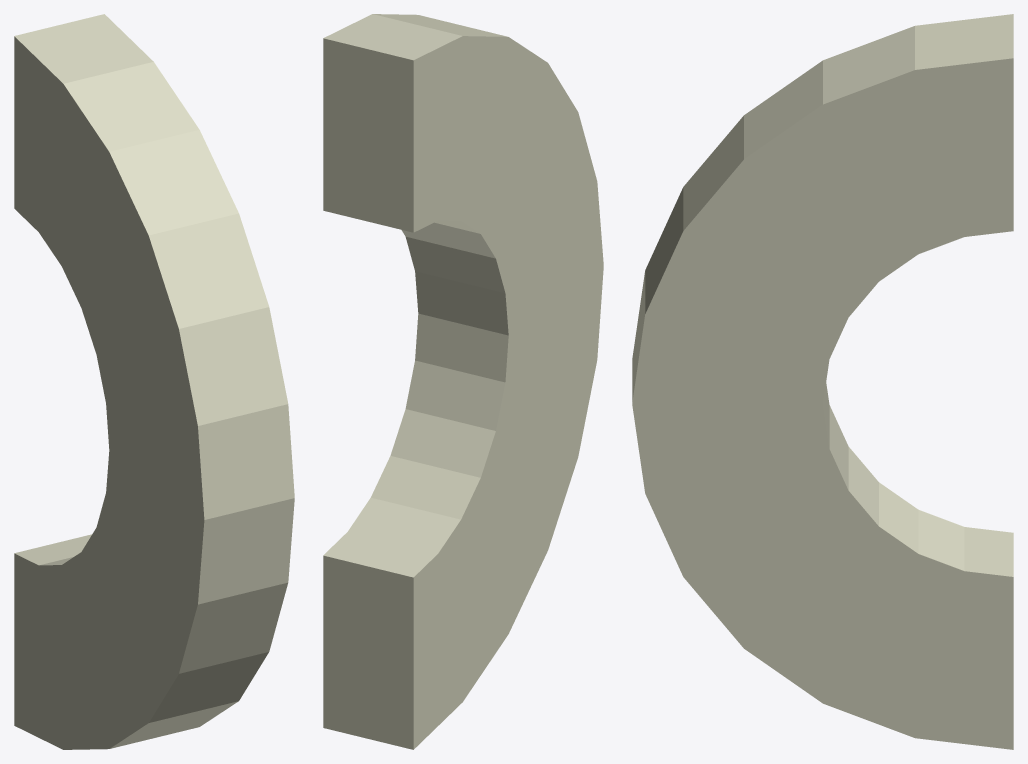
The model's file is section_285.obj.
3 renders of one model, left to right at view 1: azimuth 30°, elevation 25°; view 2: azimuth 150°, elevation 25°; view 3: azimuth 270°, elevation 25°, orthographic.
Size of the model in its own units: 1.1 by 8 by 4.
